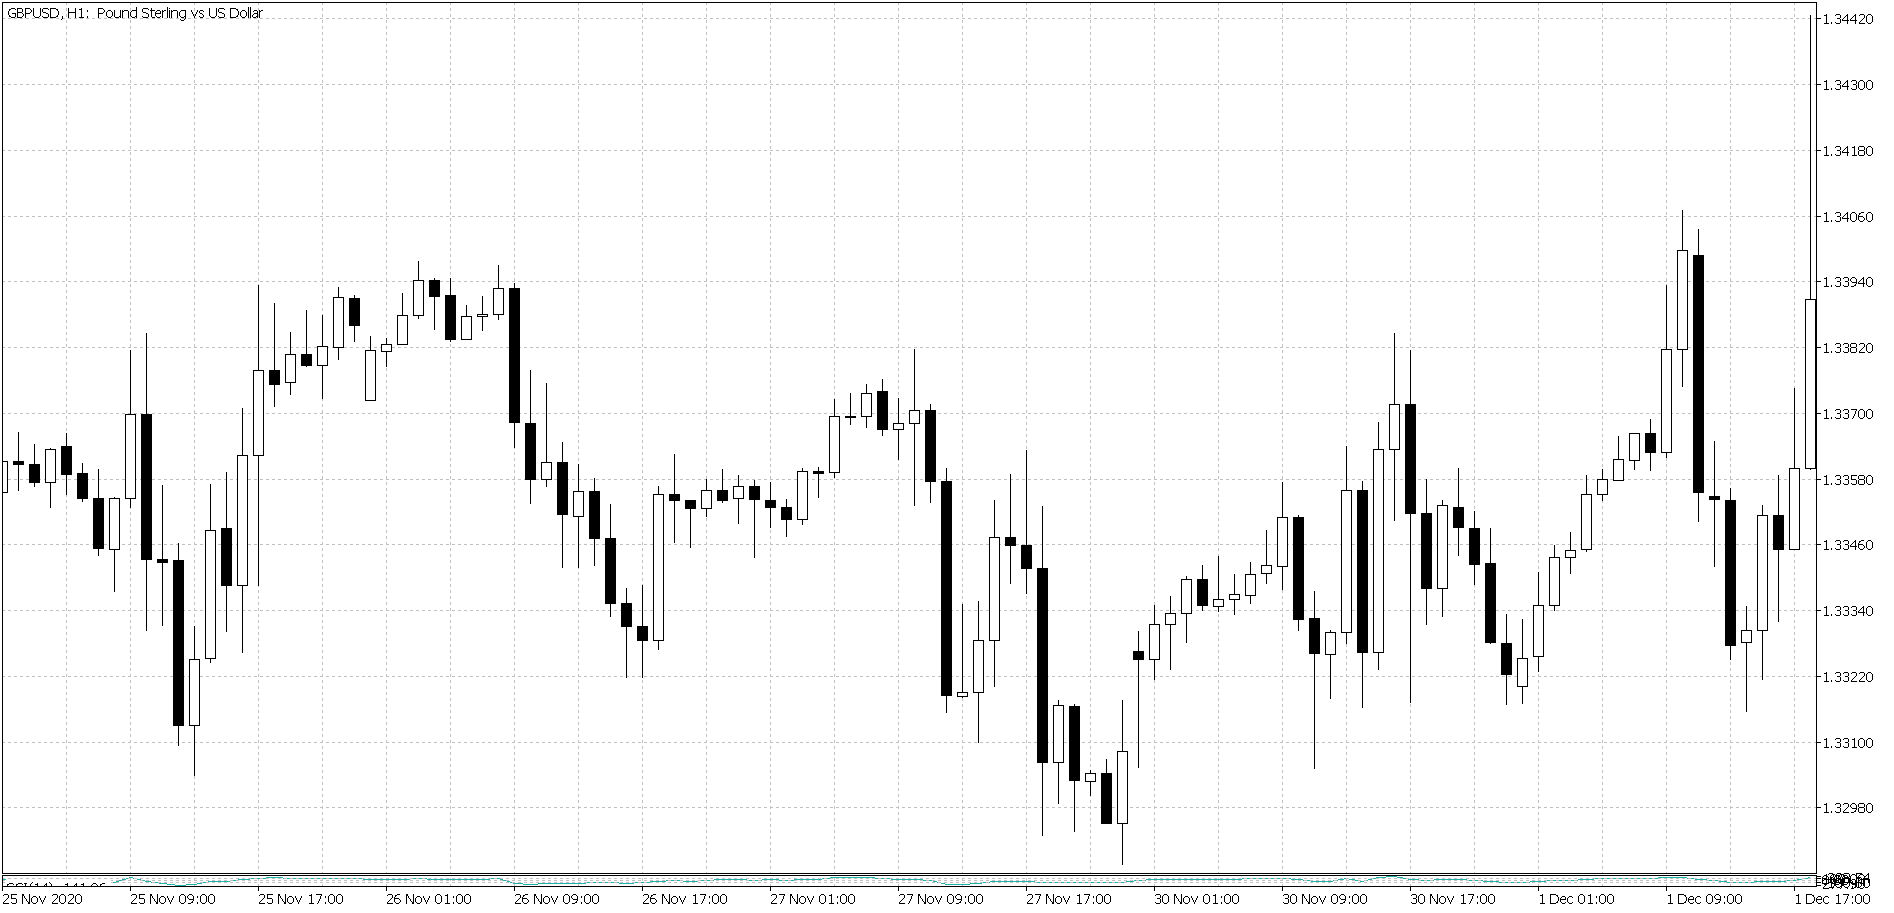3whitesoldiers: (1515, 533, 1564, 710)
bearishEngulfing: (123, 345, 156, 636), (539, 425, 571, 570)
bullishEngulfing: (1131, 606, 1163, 690)
morningStar: (939, 447, 984, 743)
shootingStar: (298, 306, 315, 373)
